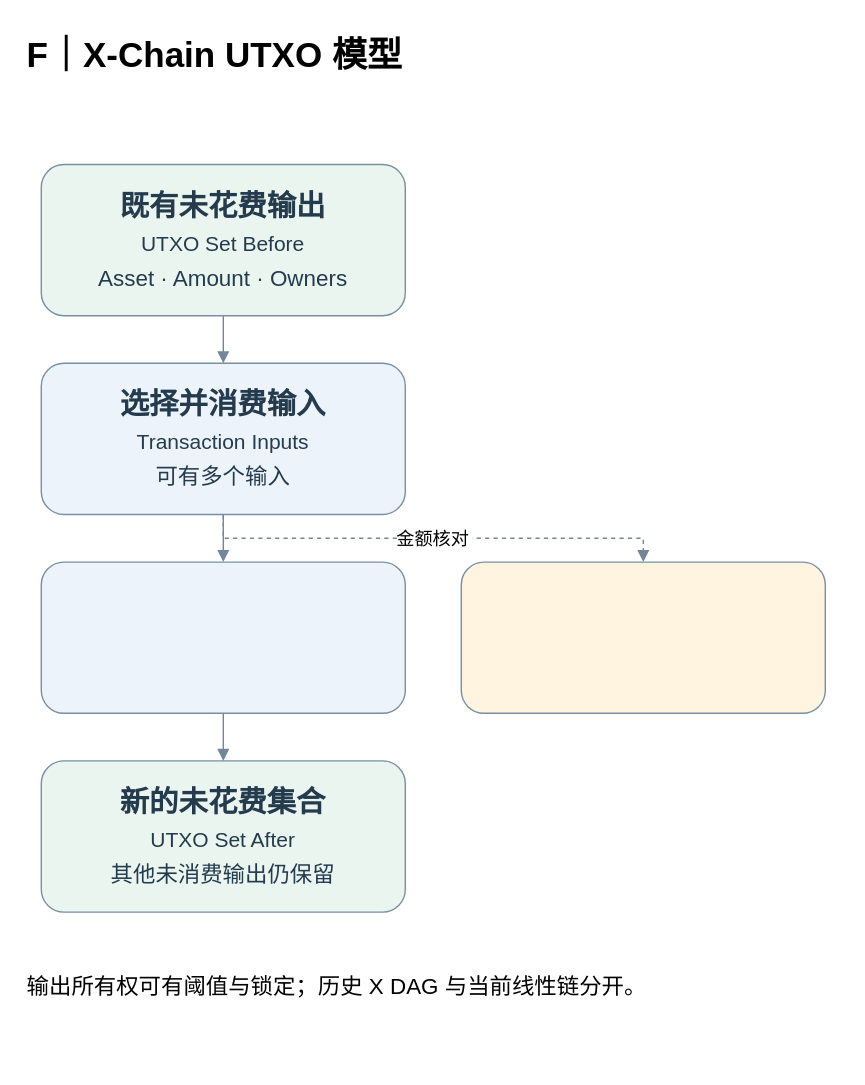
Some shapes in this 865 by 1085 pixel diagram are drawn without their labels. The shapes that lost their labels are listed below. From the top down, each one's centre as x and y in pixels, then its label:
[222,637]: 生成新输出 Transaction Outputs 收款与找零候选
[642,637]: 逐资产费用核对 Per-Asset Reconciliation 适用转移类型
